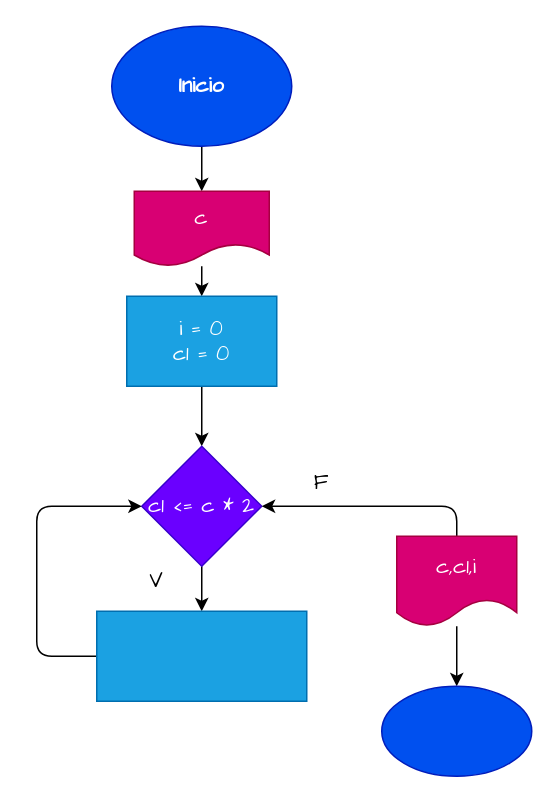
Image size: 558x803. Some labels were removed from this diagram. Here are the shapes that lost their labels. From the top down, the centre of each, then its label:
At [201,655]: "c1 = c1 + c * 0.05 i = i +1".
At [456,730]: "Fin".
